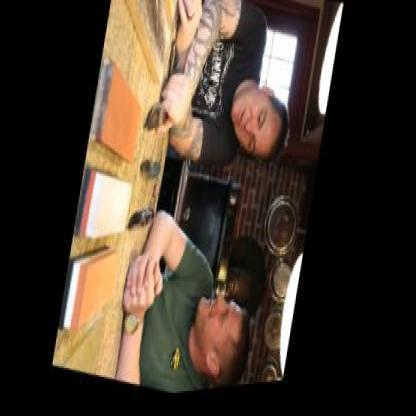knife: (138, 66, 184, 149)
